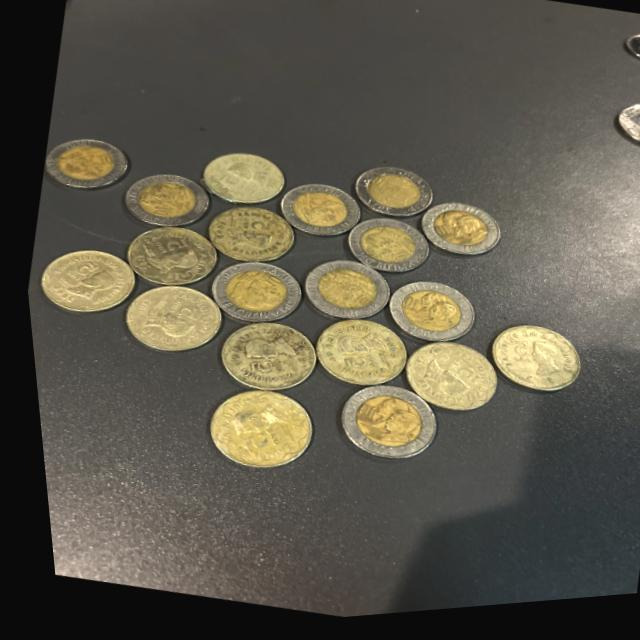10_Old_Front: (200, 268, 289, 333), (336, 396, 413, 464), (296, 263, 371, 318), (47, 132, 113, 194), (391, 293, 455, 348), (421, 212, 490, 259), (358, 171, 419, 217), (133, 175, 188, 223), (356, 227, 413, 269), (287, 188, 344, 229)
5_Old_Front: (202, 395, 307, 472), (121, 281, 207, 362), (202, 200, 292, 271), (222, 323, 304, 398), (488, 336, 571, 408), (126, 220, 208, 292), (310, 323, 392, 392), (49, 247, 127, 319), (404, 344, 483, 413), (201, 151, 273, 215)
